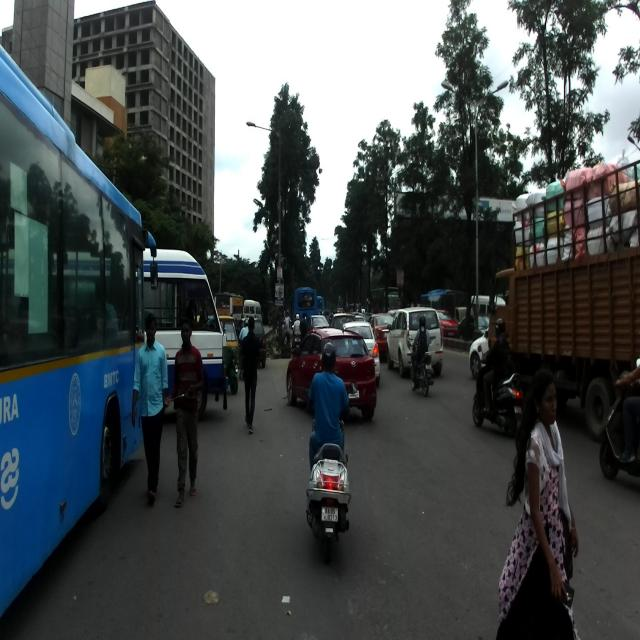Car: (286, 304, 377, 418)
bus: (0, 38, 159, 620)
motorcycle_Hero: (408, 333, 434, 398)
scooter: (304, 379, 358, 562), (471, 344, 522, 438)
truck: (488, 150, 640, 441)
